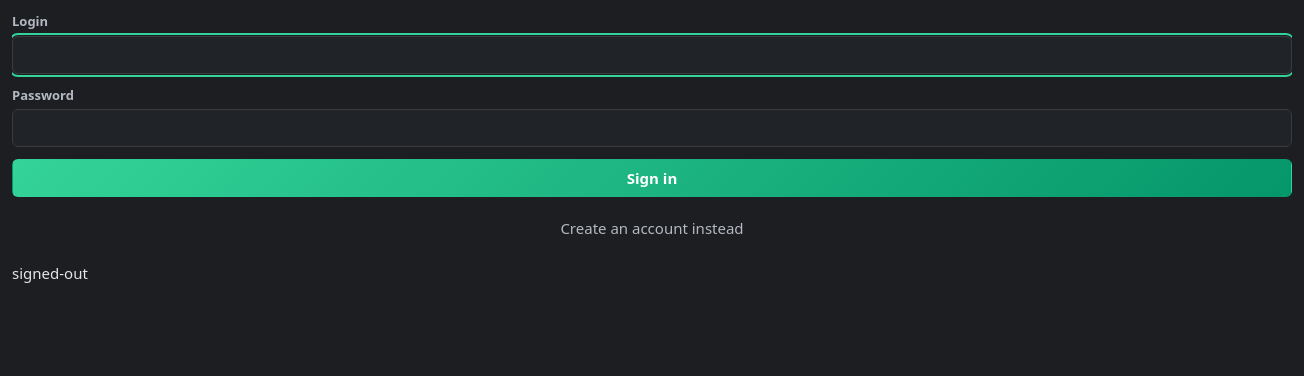
PasswordAuthForm › shows a validation error and makes no request when a field is empty
The width and height of the screenshot is (1304, 376).
What coordinates should you click on to do the following:
click the button "Sign in"
I would click on:
 (652, 178)
Its box is top-left (12, 159), bottom-right (1292, 197).
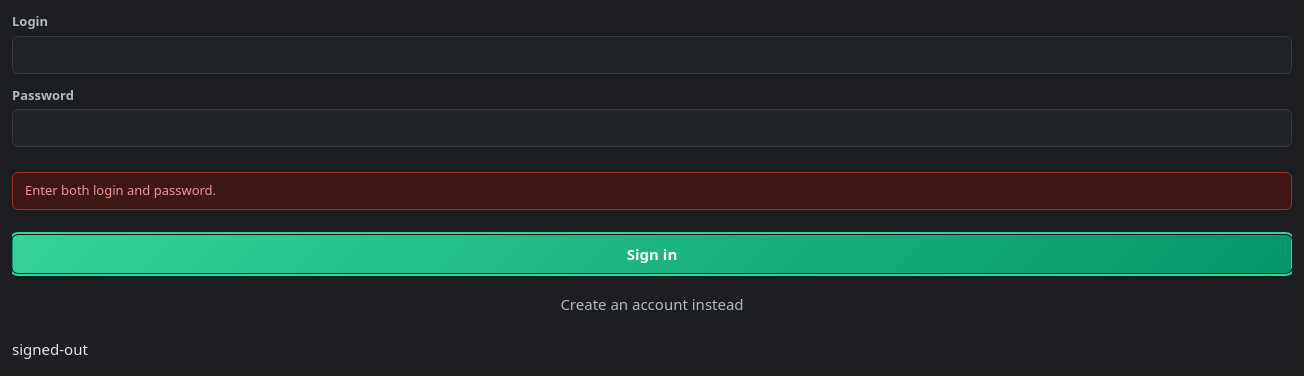
Check: the message shows "Enter both login and password", box top-left (25, 181), bottom-right (216, 199)
